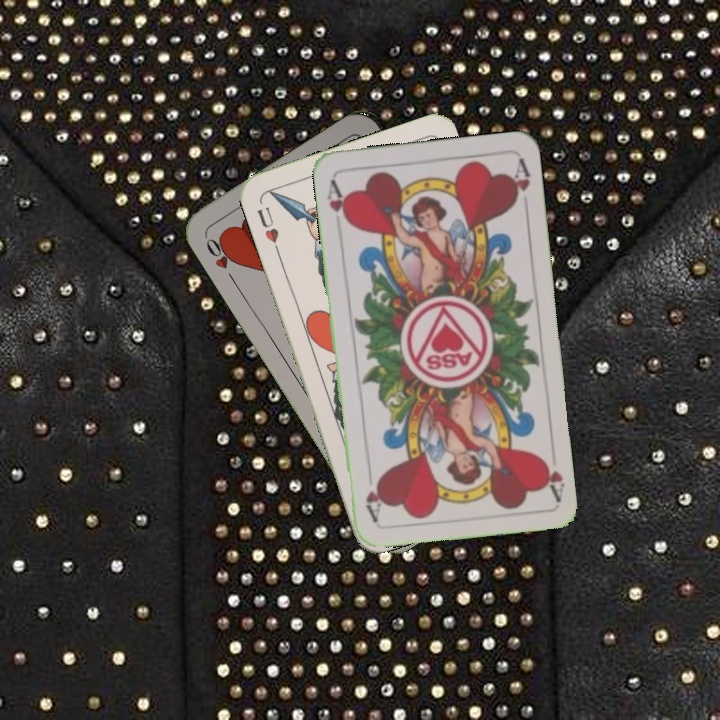HA: (536, 444, 567, 503), (323, 175, 352, 229)
HO: (201, 231, 241, 286)
HU: (253, 202, 282, 255)
